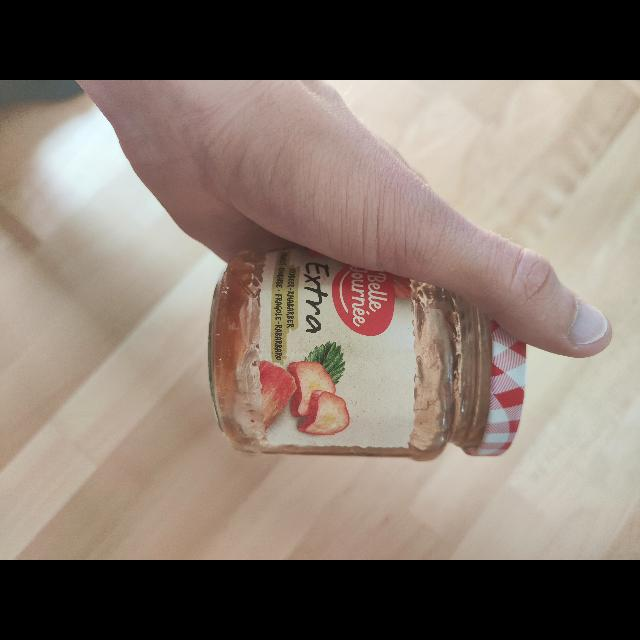Glass: (210, 250, 486, 462)
Metal: (483, 304, 529, 460)
